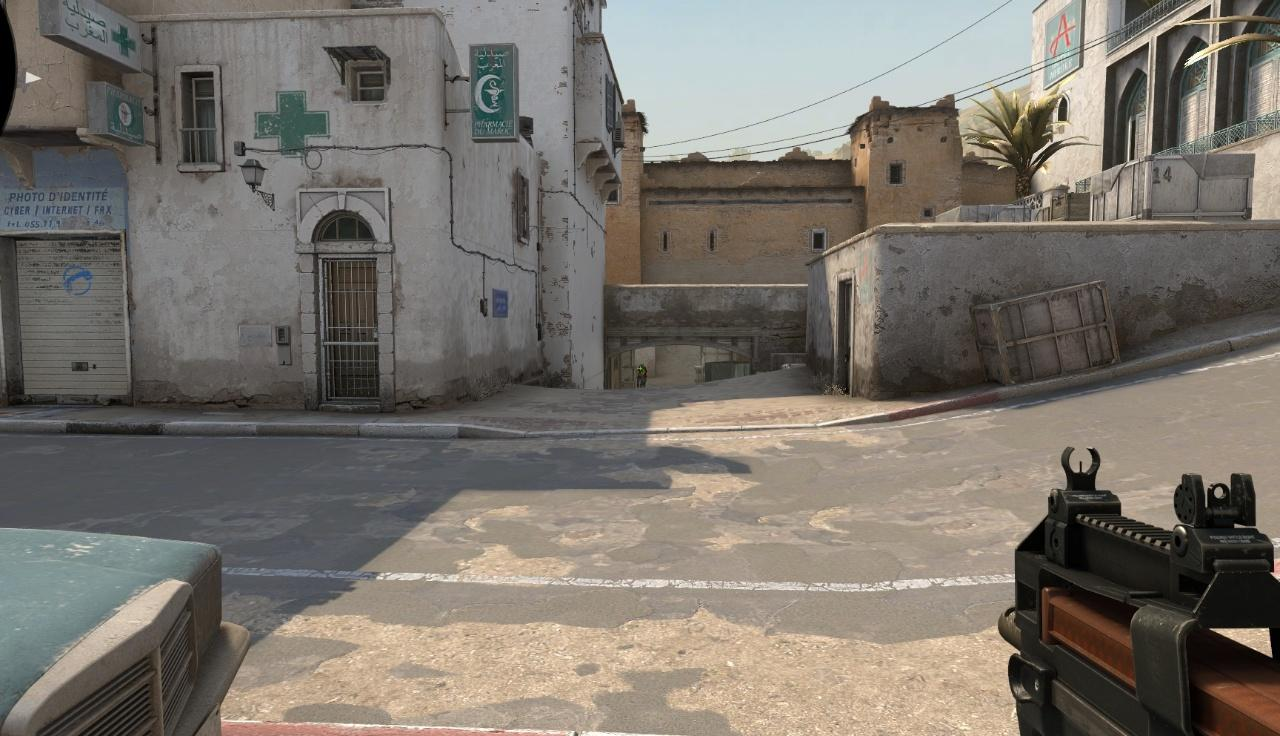rifle: (1012, 442, 1280, 736)
tt: (637, 365, 646, 387)
